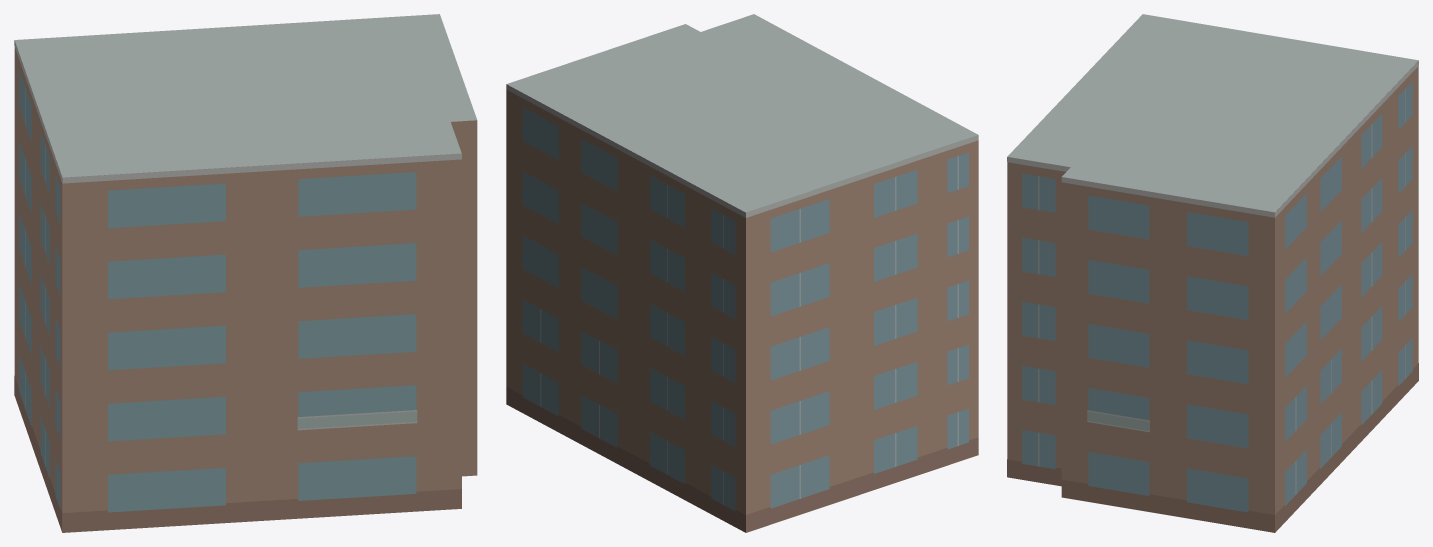
File: survey-upis-32906587.glb
3 views of the same model, side by side, from view 1: azimuth 30°, elevation 25°; view 2: azimuth 150°, elevation 25°; view 3: azimuth 270°, elevation 25° (orthographic). The views are drawn at different scales.
Parts seen in each view (by area): view 1: survey-upis-32906587.tmp; view 2: survey-upis-32906587.tmp; view 3: survey-upis-32906587.tmp.
Part boxes in pixels (x1,y1,x2,y2): survey-upis-32906587.tmp: (14,14,477,532); survey-upis-32906587.tmp: (506,14,978,532); survey-upis-32906587.tmp: (1007,14,1418,532).
Bounding box in the file's own units: 19.39 × 14.6 × 17.
